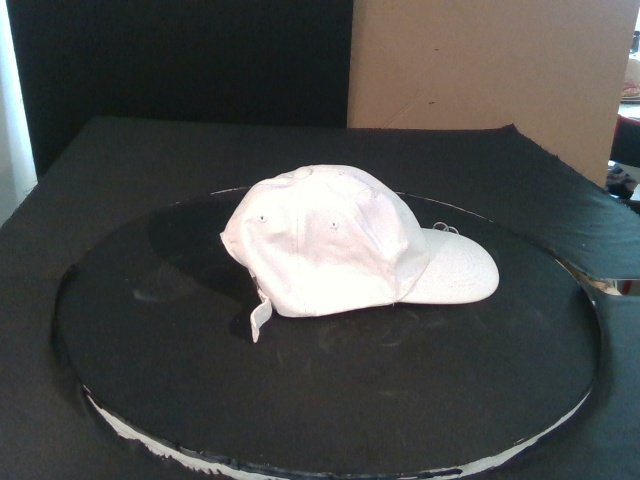hat: (218, 165, 500, 318)
